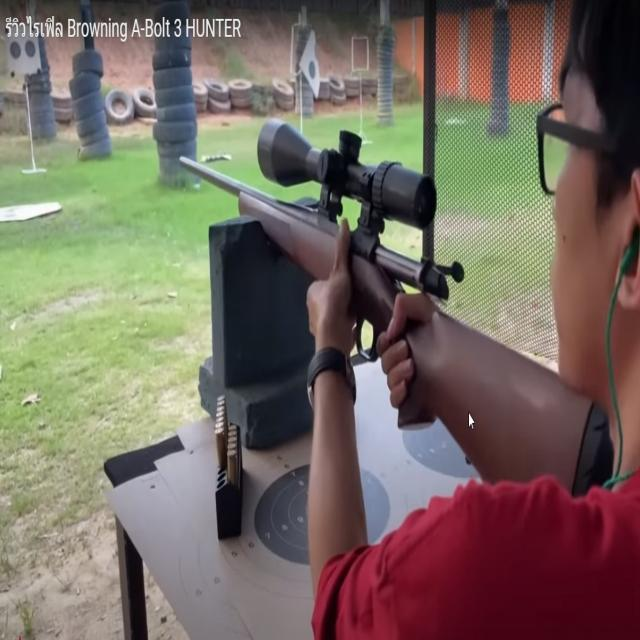rifle: (172, 100, 612, 542)
